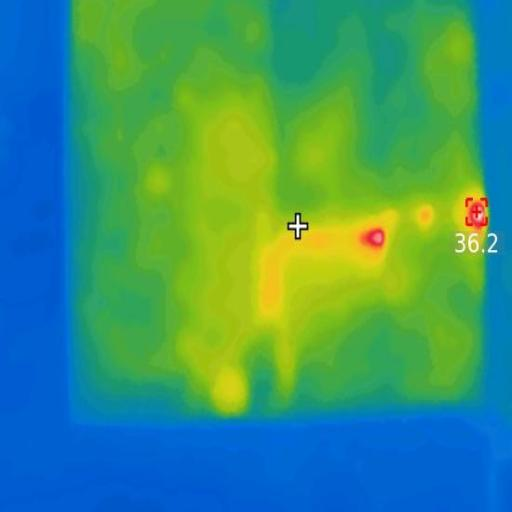hotspot: (466, 195, 490, 231), (360, 226, 388, 250)
